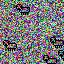sheep: (15, 3, 30, 15), (2, 39, 17, 51), (50, 36, 64, 48), (43, 55, 58, 64), (58, 50, 64, 61)
